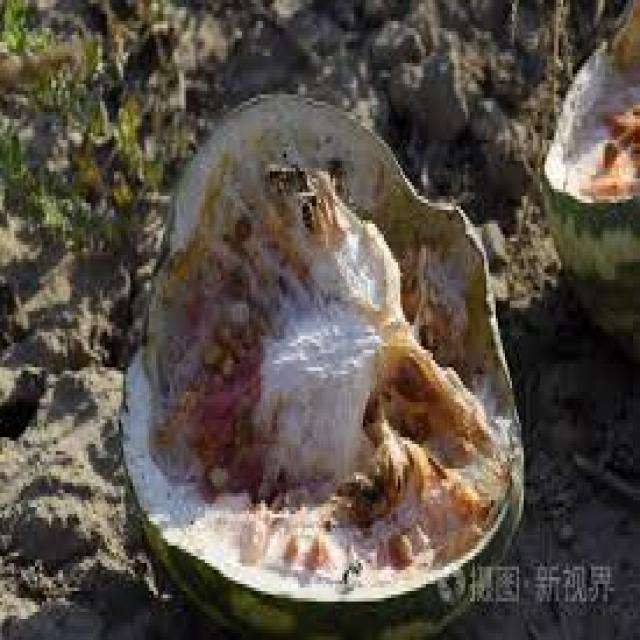organic waste: (116, 88, 524, 636), (538, 0, 638, 350)
